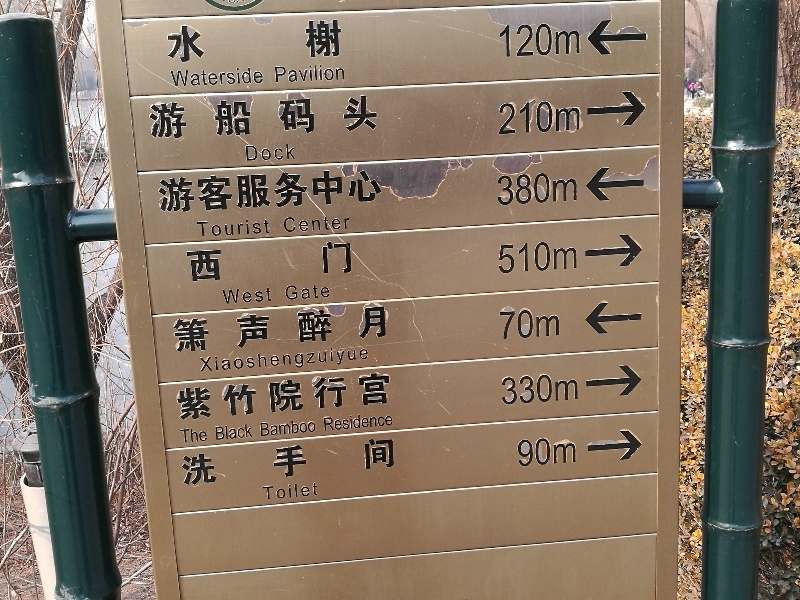text: (177, 371, 192, 423), (193, 371, 208, 423), (209, 371, 224, 423), (225, 371, 240, 423), (241, 371, 256, 423), (257, 371, 272, 423), (273, 371, 288, 423), (289, 371, 304, 423), (305, 371, 320, 423), (321, 371, 336, 423), (337, 371, 352, 423), (353, 371, 368, 423), (369, 371, 384, 423), (177, 436, 192, 488), (193, 436, 208, 488), (209, 436, 224, 488), (225, 436, 240, 488), (241, 436, 256, 488), (257, 436, 272, 488), (273, 436, 288, 488), (289, 436, 304, 488), (305, 436, 320, 488), (321, 436, 336, 488), (337, 436, 352, 488), (353, 436, 368, 488), (369, 436, 384, 488), (177, 304, 192, 354), (193, 304, 208, 354), (209, 304, 224, 354), (225, 304, 240, 354), (241, 304, 256, 354), (257, 304, 272, 354), (273, 304, 288, 354), (289, 304, 304, 354), (305, 304, 320, 354), (321, 304, 336, 354), (337, 304, 352, 354), (353, 304, 368, 354), (369, 304, 384, 354), (369, 168, 385, 214), (177, 18, 192, 65), (193, 18, 208, 65), (209, 18, 224, 65), (225, 18, 240, 65), (241, 18, 256, 65), (257, 18, 272, 65), (273, 18, 288, 65), (289, 18, 304, 65), (305, 18, 320, 65), (321, 18, 336, 65), (161, 168, 176, 214), (177, 168, 192, 214), (193, 168, 208, 214), (209, 168, 224, 214), (225, 168, 240, 214), (241, 168, 256, 214), (257, 168, 272, 214), (273, 168, 288, 214), (289, 168, 304, 214), (305, 168, 320, 214), (321, 168, 336, 214), (337, 168, 352, 214), (353, 168, 368, 214), (193, 239, 208, 285), (209, 239, 224, 285), (225, 239, 240, 285), (241, 239, 256, 285), (257, 239, 272, 285), (273, 239, 288, 285), (289, 239, 304, 285), (305, 239, 320, 285), (321, 239, 336, 285), (337, 239, 352, 285), (161, 95, 176, 139), (177, 95, 192, 139), (193, 95, 208, 139), (209, 95, 224, 139), (225, 95, 240, 139), (241, 95, 256, 139), (257, 95, 272, 139), (273, 95, 288, 139), (289, 95, 304, 139), (305, 95, 320, 139), (321, 95, 336, 139), (337, 95, 352, 139), (353, 95, 368, 139), (147, 95, 160, 139), (513, 22, 528, 59), (529, 22, 544, 59), (545, 22, 560, 59), (561, 22, 576, 59), (513, 100, 528, 136), (529, 100, 544, 136), (545, 100, 560, 136), (561, 100, 576, 136), (497, 173, 512, 208), (513, 173, 528, 208), (529, 173, 544, 208), (545, 173, 560, 208), (561, 173, 576, 208), (385, 436, 395, 488), (165, 18, 176, 65), (513, 308, 528, 342), (529, 308, 544, 342), (545, 308, 560, 342), (513, 242, 528, 275), (529, 242, 544, 275), (545, 242, 560, 275), (561, 242, 576, 275), (499, 22, 512, 59), (513, 374, 528, 406), (529, 374, 544, 406), (545, 374, 560, 406), (561, 374, 576, 406), (209, 344, 224, 376), (225, 344, 240, 376), (241, 344, 256, 376), (257, 344, 272, 376), (273, 344, 288, 376), (289, 344, 304, 376), (305, 344, 320, 376), (321, 344, 336, 376), (337, 344, 352, 376), (353, 344, 368, 376), (499, 100, 512, 136), (385, 371, 394, 423), (529, 438, 544, 469), (545, 438, 560, 469), (561, 438, 576, 469), (498, 242, 512, 275), (499, 308, 512, 342), (369, 95, 379, 139), (501, 374, 512, 406), (517, 438, 528, 469), (177, 67, 192, 89), (193, 67, 208, 89), (209, 67, 224, 89), (225, 67, 240, 89), (241, 67, 256, 89), (273, 480, 288, 502), (289, 480, 304, 502), (305, 480, 320, 502), (289, 63, 304, 84), (305, 63, 320, 84), (321, 63, 336, 84), (209, 217, 224, 238), (225, 217, 240, 238), (241, 217, 256, 238), (289, 213, 304, 234), (305, 213, 320, 234), (321, 213, 336, 234), (257, 143, 272, 163), (273, 143, 288, 163), (273, 418, 288, 438), (289, 418, 304, 438), (337, 412, 352, 432), (353, 412, 368, 432), (369, 412, 384, 432), (257, 217, 271, 238), (337, 213, 351, 234), (257, 287, 273, 305), (225, 422, 240, 441), (337, 18, 343, 65), (186, 239, 192, 285), (275, 63, 288, 84), (225, 287, 240, 305), (241, 287, 256, 305), (289, 283, 304, 301), (305, 283, 320, 301), (323, 412, 336, 432), (200, 344, 208, 376), (193, 427, 208, 444), (196, 217, 208, 238), (241, 422, 254, 441), (260, 418, 272, 438), (305, 418, 317, 438), (577, 22, 583, 59), (245, 143, 256, 163), (262, 480, 272, 502), (172, 304, 176, 354), (385, 304, 389, 354), (321, 283, 332, 301), (214, 422, 224, 441), (337, 63, 346, 84), (181, 427, 192, 444), (385, 412, 394, 432), (257, 67, 265, 89), (577, 100, 581, 136), (289, 143, 296, 163), (577, 374, 581, 406), (171, 67, 176, 89), (283, 213, 288, 234), (174, 371, 176, 423), (158, 168, 160, 214), (577, 173, 579, 208), (561, 308, 563, 342), (285, 283, 288, 301), (353, 239, 354, 285), (222, 287, 224, 305), (577, 242, 578, 275), (369, 344, 370, 376), (577, 438, 578, 469)
